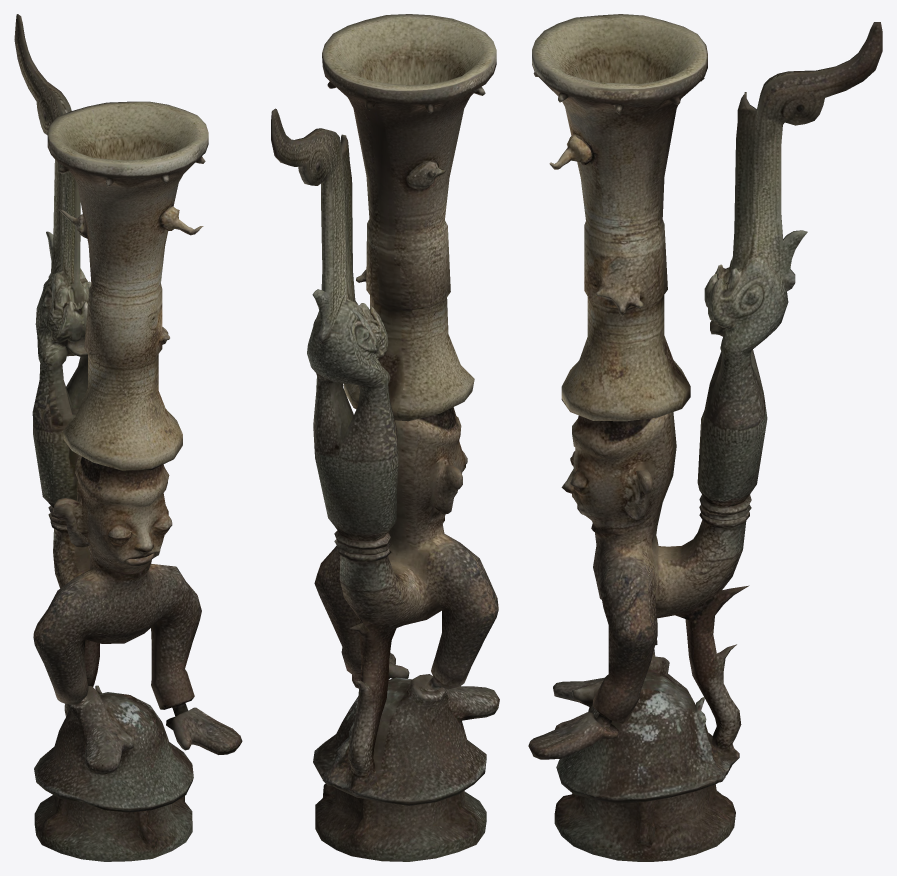
The model's file is second-ceremonial-staff.glb.
3 renders of one model, left to right at view 1: azimuth 30°, elevation 25°; view 2: azimuth 150°, elevation 25°; view 3: azimuth 270°, elevation 25°, orthographic. The views are drawn at different scales.
Parts seen in each view (by area): view 1: second-ceremonial-staff; view 2: second-ceremonial-staff; view 3: second-ceremonial-staff.
Part boxes in pixels (x1=…): second-ceremonial-staff: x1=14, y1=14, x2=242, y2=861; second-ceremonial-staff: x1=271, y1=14, x2=499, y2=861; second-ceremonial-staff: x1=528, y1=14, x2=882, y2=861.
Bounding box in the file's own units: 0.2363 × 0.998 × 0.3965.
1 material, 1 textured.
